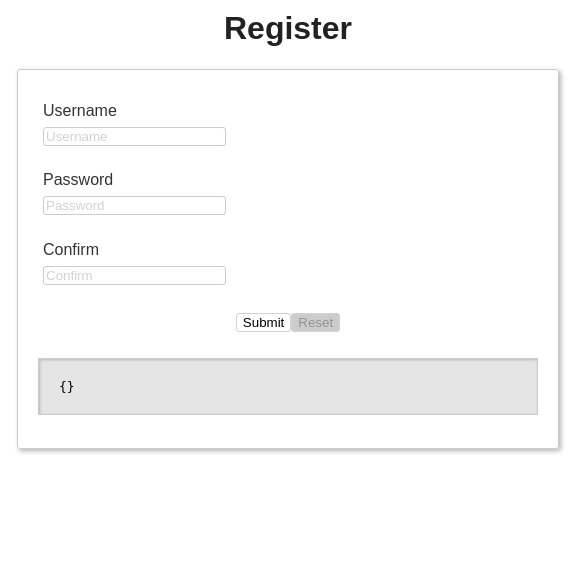
Scenario: Registration form › should show errors if mandatory fields are missing
This screenshot has width=581, height=567.
Click the button "Submit" at (264, 322), box [236,313,291,332]
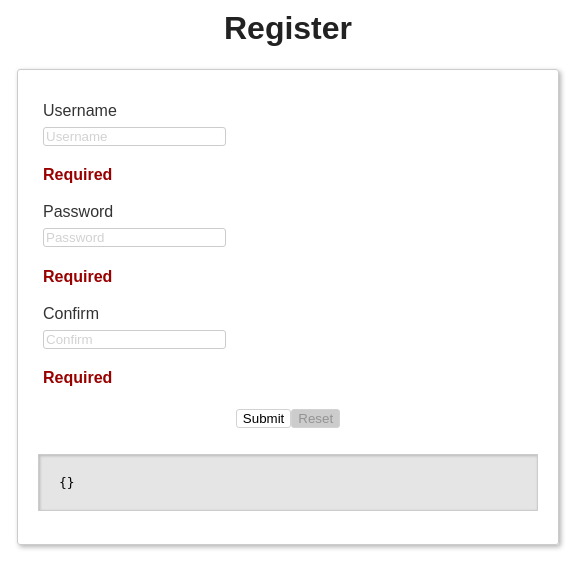
Check: the text with class "username-error" reads "Required", box [43,166,112,183]
Check: the text "Required" below "Password" is shown, box [43,268,112,284]
Check: the text with class "confirm-error" is shown, box [43,369,112,386]
